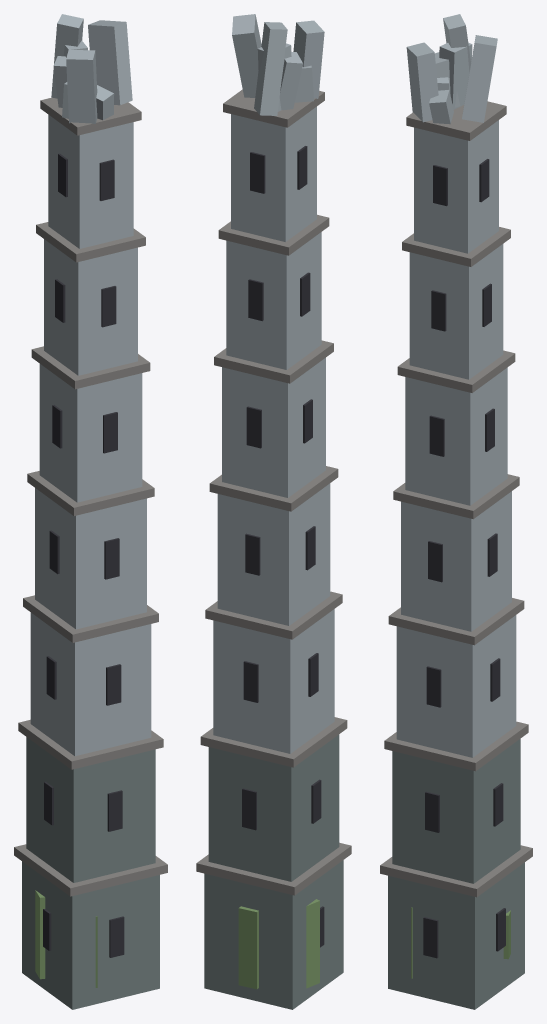
The model's file is SM_Spire.fbx.
The picture shows the model from 3 angles, left to right: view 1: azimuth 30°, elevation 25°; view 2: azimuth 150°, elevation 25°; view 3: azimuth 330°, elevation 25°; orthographic projection.
Parts seen in each view (by area): view 1: SM_Spire; view 2: SM_Spire; view 3: SM_Spire.
Boxes of the visible parts, x1,y1,x2,y2 form: SM_Spire: (14,14,167,1009); SM_Spire: (196,14,351,1009); SM_Spire: (380,14,532,1009).
Bounding box in the file's own units: 4.9 × 46 × 4.9.
